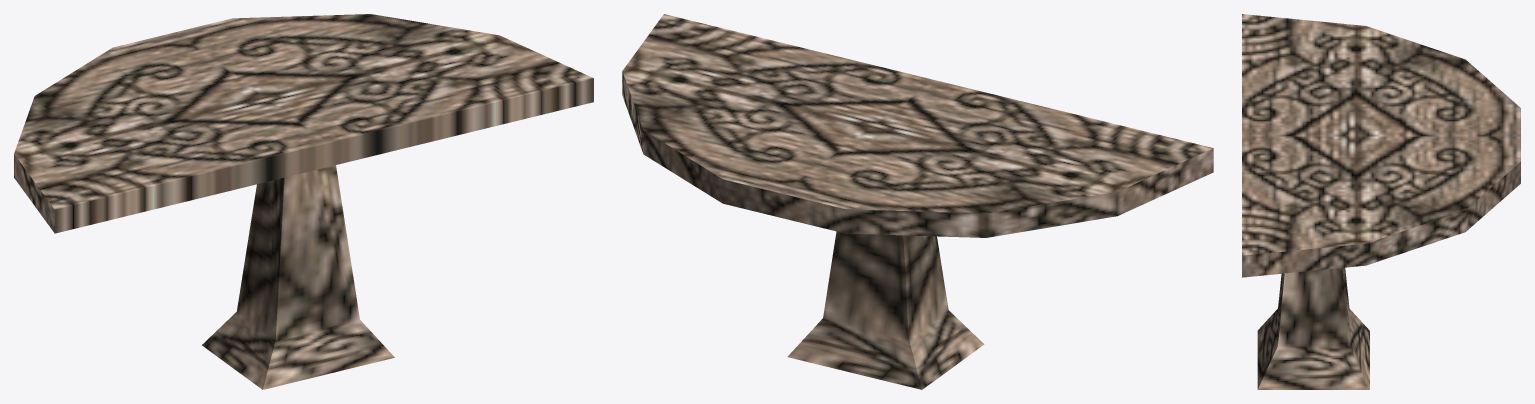
File: Furniture04.obj
3 views of the same model, side by side, from view 1: azimuth 30°, elevation 25°; view 2: azimuth 150°, elevation 25°; view 3: azimuth 270°, elevation 25° (orthographic). The views are drawn at different scales.
Parts seen in each view (by area): view 1: Mesh_0; view 2: Mesh_0; view 3: Mesh_0.
Boxes of the visible parts, x1,y1,x2,y2 form: Mesh_0: (14,14,593,389); Mesh_0: (622,14,1213,389); Mesh_0: (1242,14,1520,389).
Bounding box in the file's own units: 2.04 × 0.8633 × 0.9929.
Materials: 1 (1 with a texture image).
